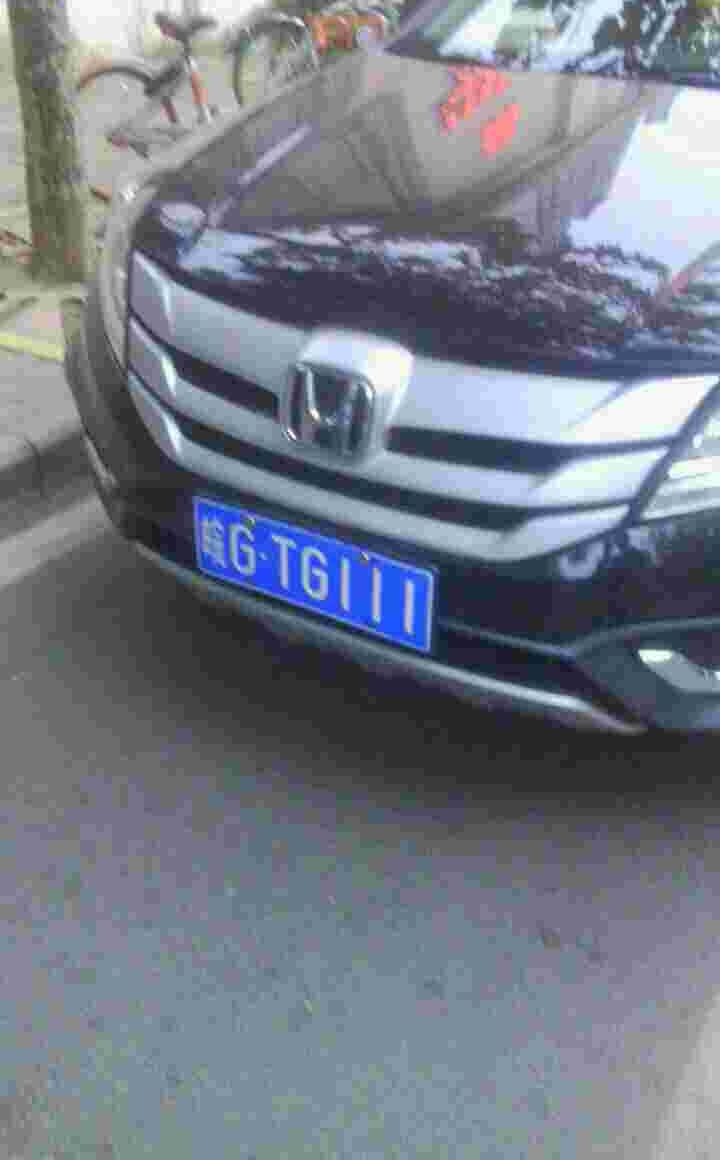license_plate: (191, 486, 445, 657)
